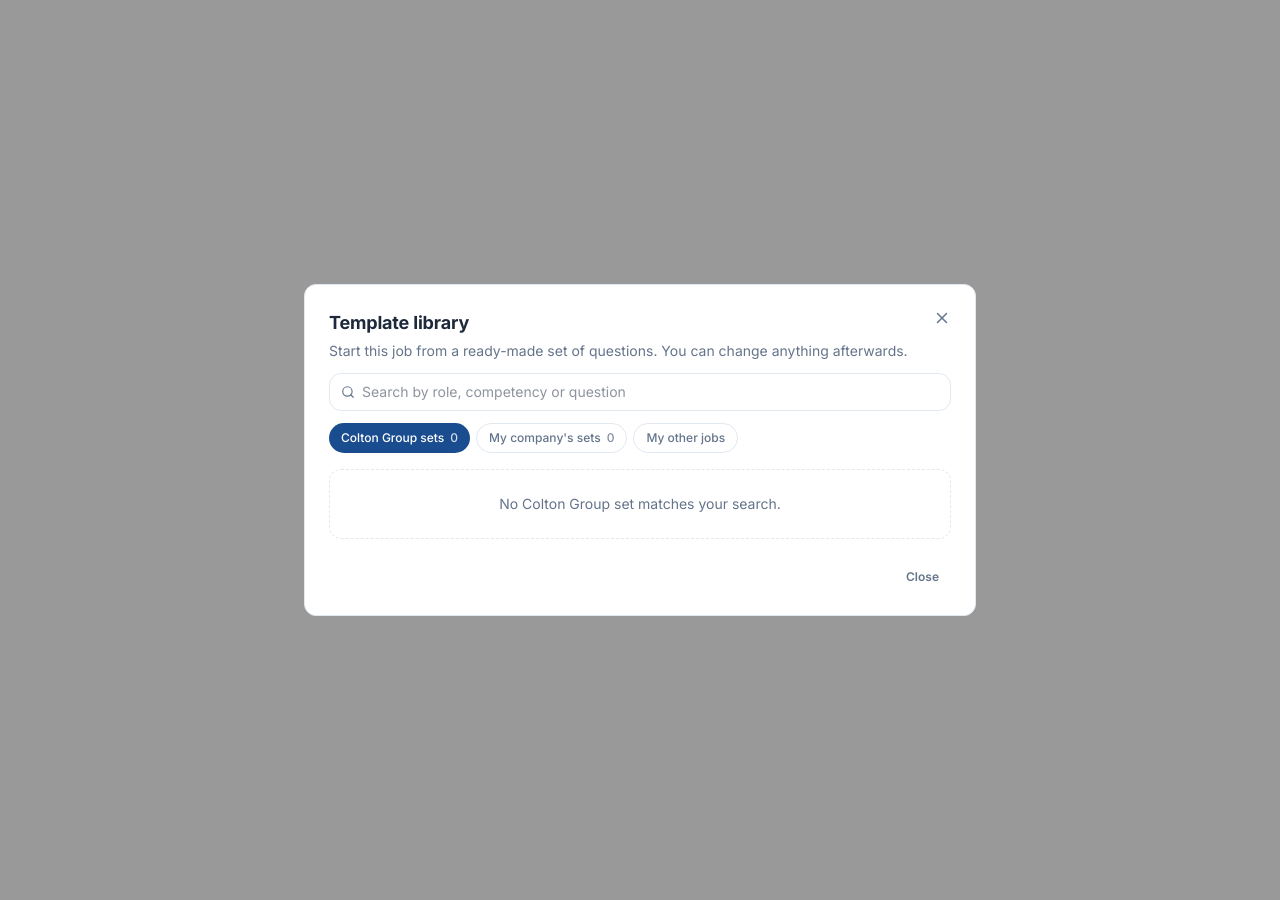
QuestionLibraryModal › says so when nothing matches, in words for the tab
Expected: the text with test id "library-empty" reads "No Colton Group set matches your search.", [499,495,781,512]
Click the tab "My company's sets0": {"x": 552, "y": 438} [476,423,627,453]
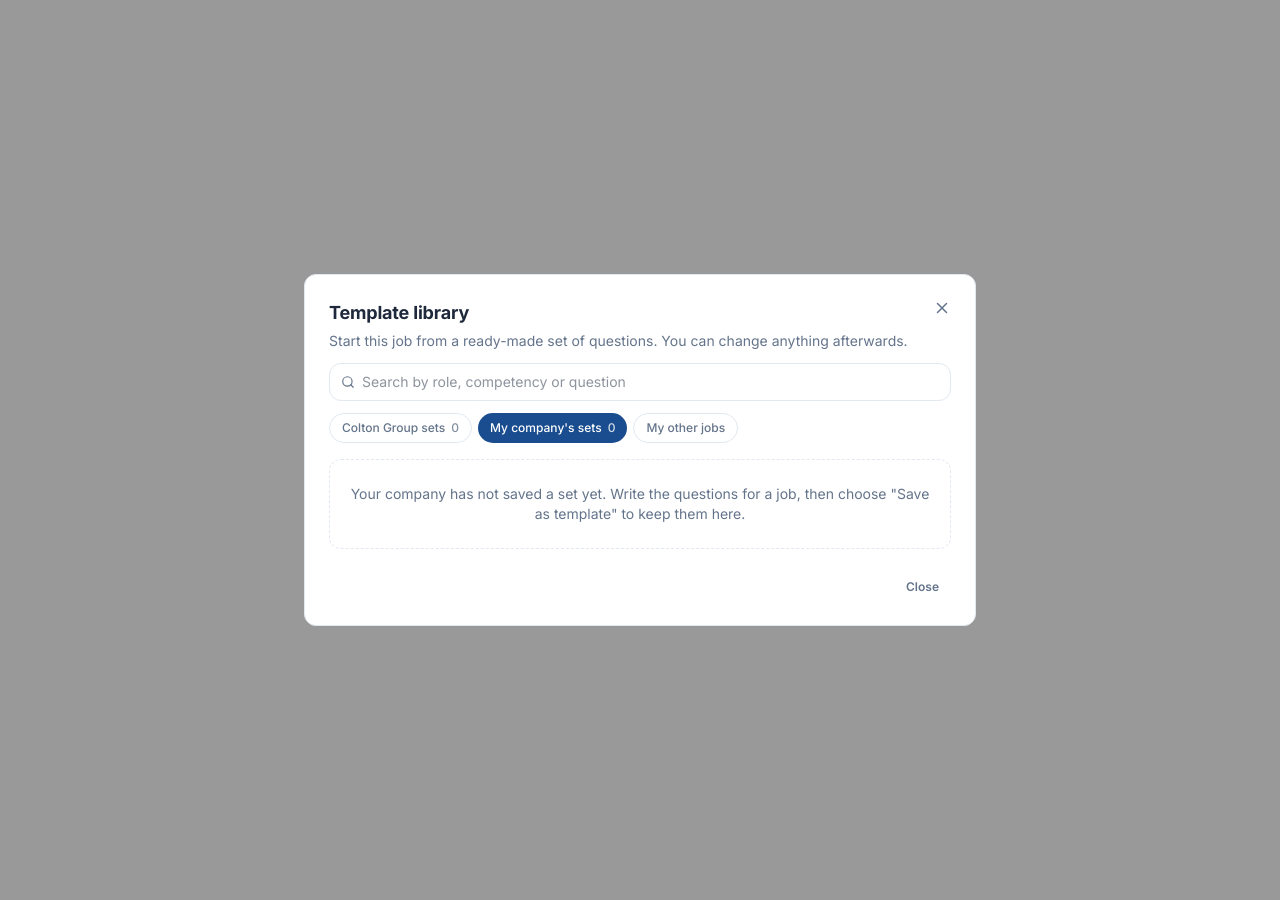
Expected: the text with test id "library-empty" shows "Your company has not saved a set yet", [351,485,929,522]
Expected: the text with test id "library-empty" shows "Save as template", [351,485,929,522]
